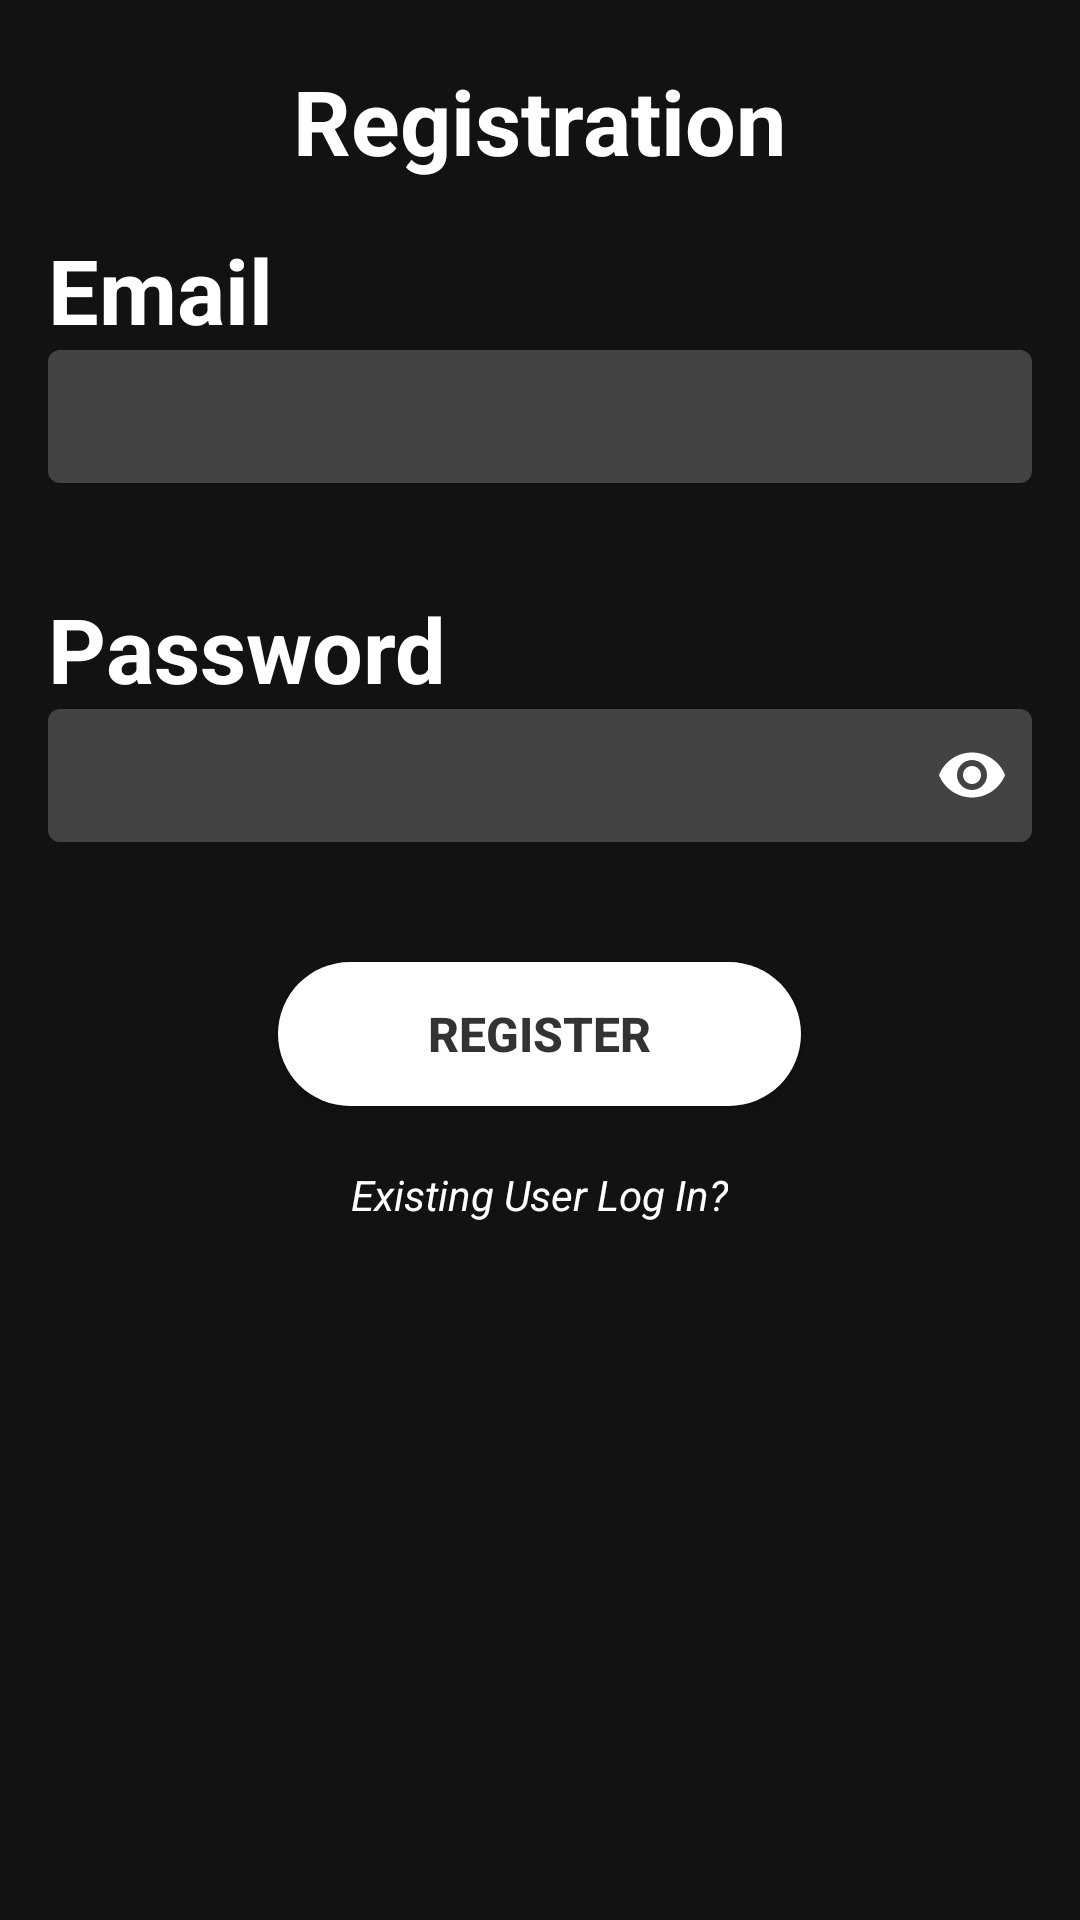

Named icons in this screenshot (1080w x 1920h) and their bounding boxes, (x1, y1, x2, y2):
visibility: (939, 752, 1005, 798)
